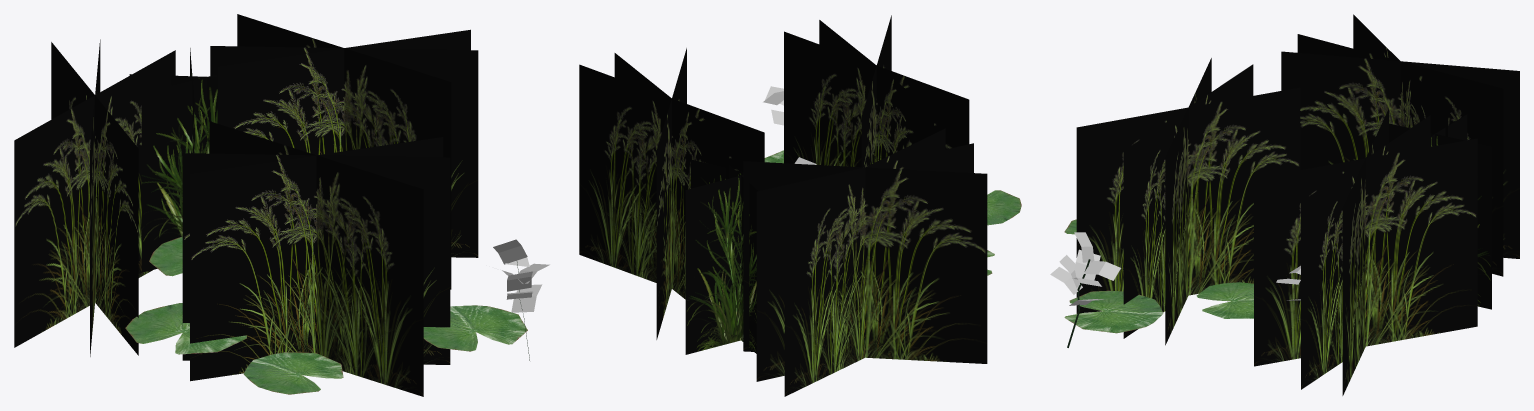
The model's file is Conjunto1.fbx.
3 renders of one model, left to right at view 1: azimuth 30°, elevation 25°; view 2: azimuth 150°, elevation 25°; view 3: azimuth 270°, elevation 25°, orthographic. The views are drawn at different scales.
Parts seen in each view (by area): view 1: Cylinder.008; view 2: Cylinder.008; view 3: Cylinder.008.
Part boxes in pixels (x1=…): Cylinder.008: x1=14, y1=14, x2=549, y2=396; Cylinder.008: x1=579, y1=15, x2=1021, y2=396; Cylinder.008: x1=1050, y1=14, x2=1519, y2=395.
Size of the model in its own units: 945 by 426 by 941.
